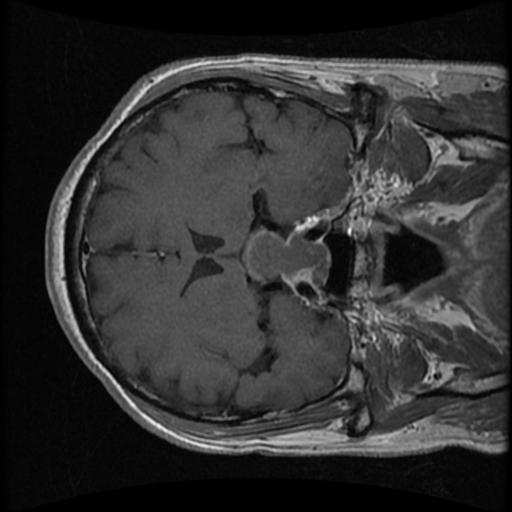pituitary tumour: (242, 216, 331, 294)
